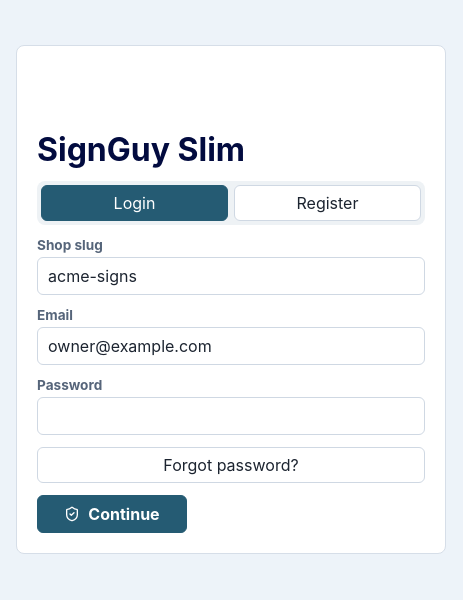
Test: Part 2 UI › surfaces auth rate-limit errors without clearing unrelated local storage
Type "bad-password" into the password field labelled "Password". click: (231, 416)
box: x1=37 y1=396 x2=425 y2=434
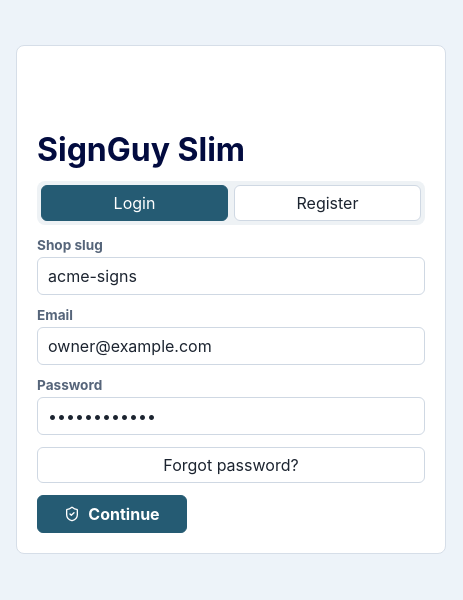
Click the button "Continue". click: (112, 514)
box: x1=37 y1=494 x2=187 y2=532
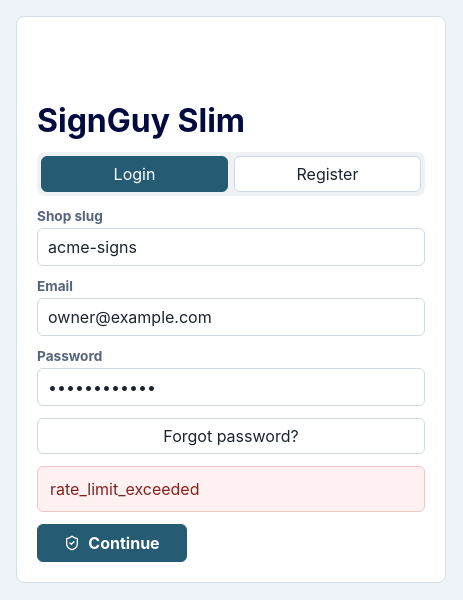
Check: the text "rate_limit_exceeded" is shown, box x1=37 y1=466 x2=425 y2=512
